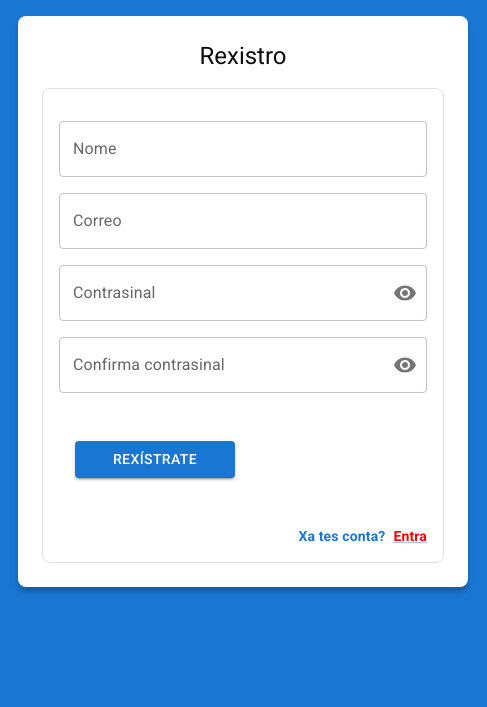
Test case: Register Page › should display error message when email is invalid
The image size is (487, 707).
Type "test@test" into the field with placeholder "aaron@swartz.op" at (243, 221), box [59,193,427,249]
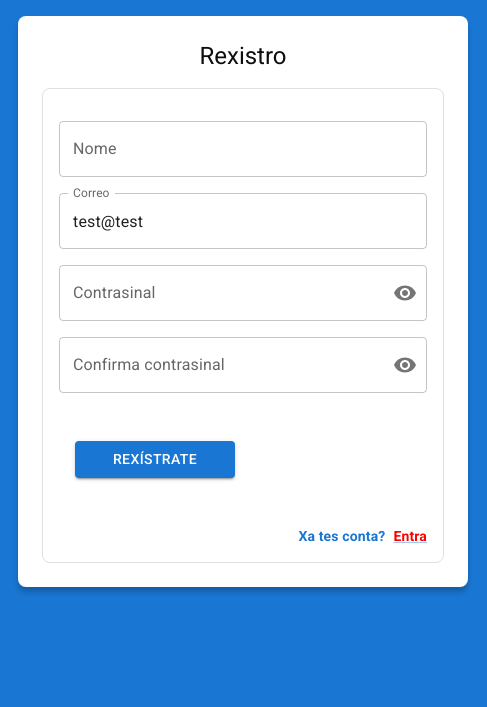
Click the button "Rexístrate" at (155, 459), box [75,441,235,478]
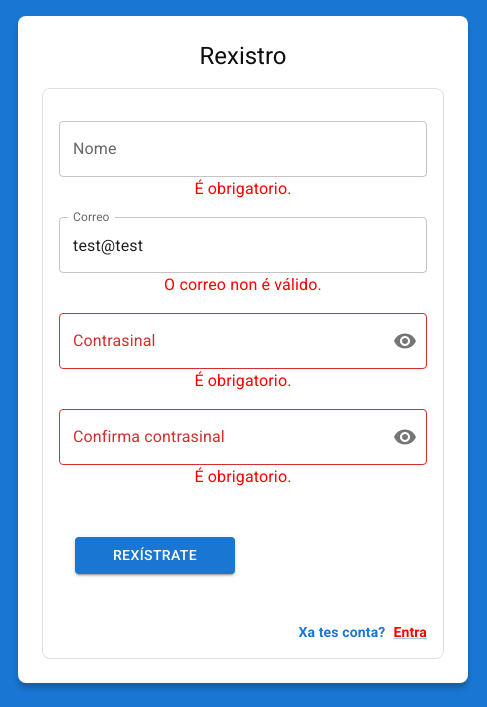
Expected: the text "O correo non é válido." is shown, [164,275,322,294]
